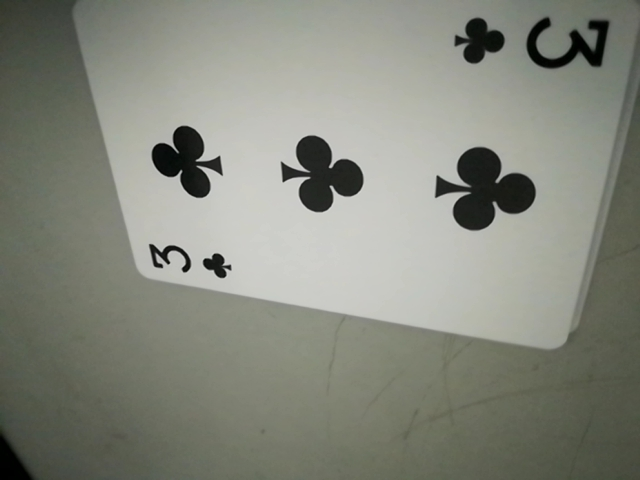mh 3: (450, 6, 606, 78), (142, 237, 237, 285)
